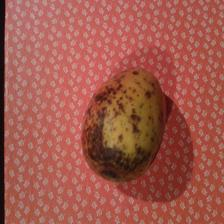Mango Semirotten: (78, 65, 168, 182)
